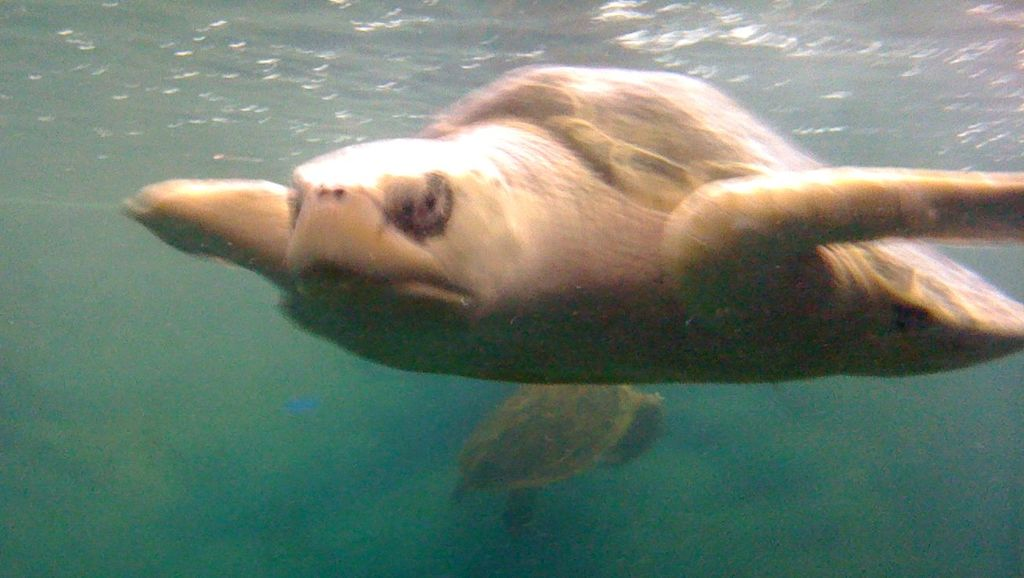Sea turtles: (118, 57, 1023, 383), (444, 369, 662, 539)
